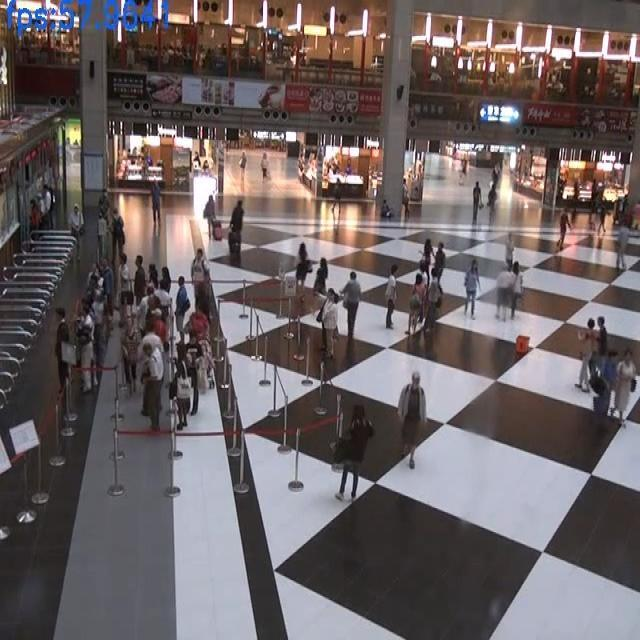abandoned-object: (501, 322, 543, 367)
